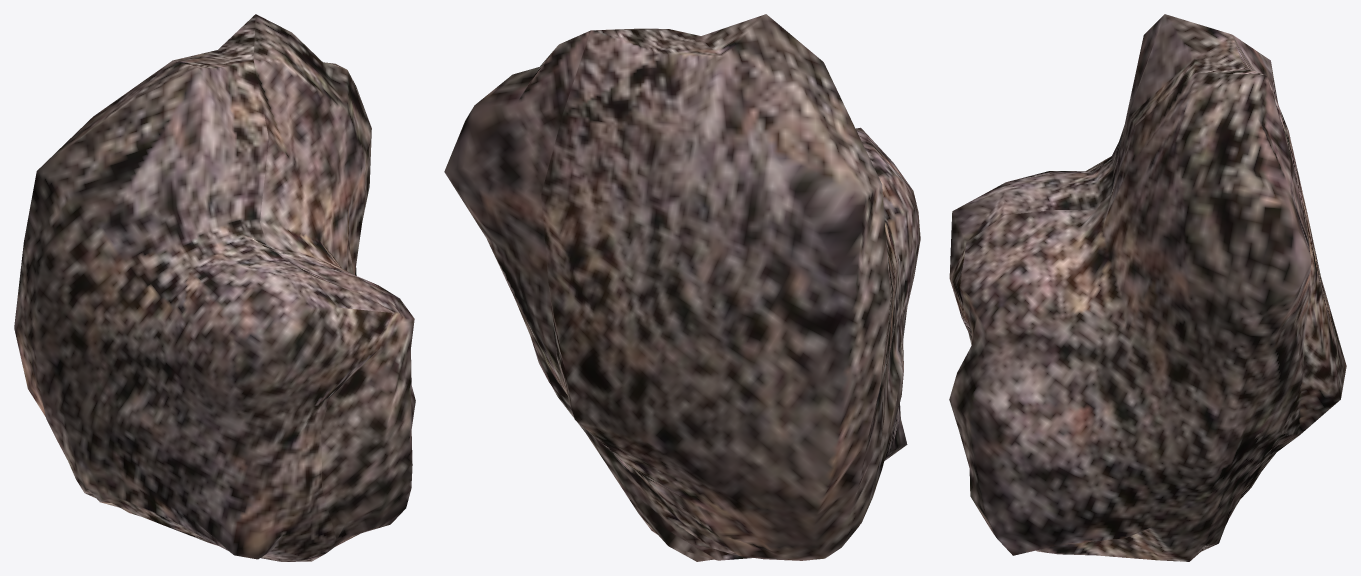
The model's file is cyanide_rock.fbx.
3 views of the same model, side by side, from view 1: azimuth 30°, elevation 25°; view 2: azimuth 150°, elevation 25°; view 3: azimuth 270°, elevation 25° (orthographic). The views are drawn at different scales.
Parts seen in each view (by area): view 1: Cube; view 2: Cube; view 3: Cube.
Boxes of the visible parts, <box> form: Cube: <box>14,14,415,561</box>; Cube: <box>444,14,920,561</box>; Cube: <box>949,14,1346,561</box>.
Size of the model in its own units: 3.27 by 4.22 by 2.95.
Materials: 1 (1 with a texture image).
